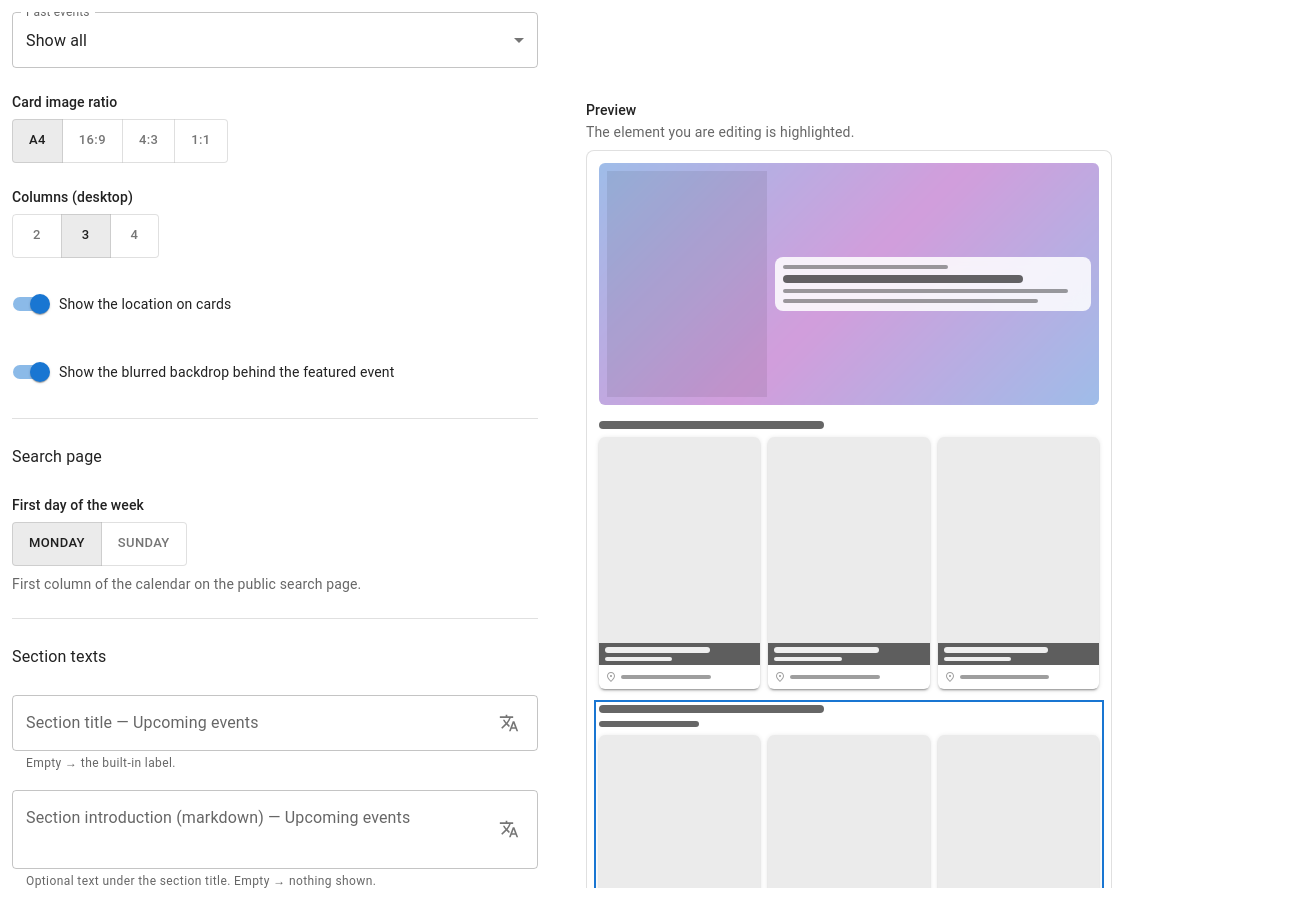
Scenario: AgendaDesignEditor (Agenda design tab) › hides the cut-off date outside the `from` mode and reveals it inside
Expected: the field labelled "show past events from" is not shown
Press the mouse on the dropdown named "past events" at (57, 40), box [26,30,87,50]
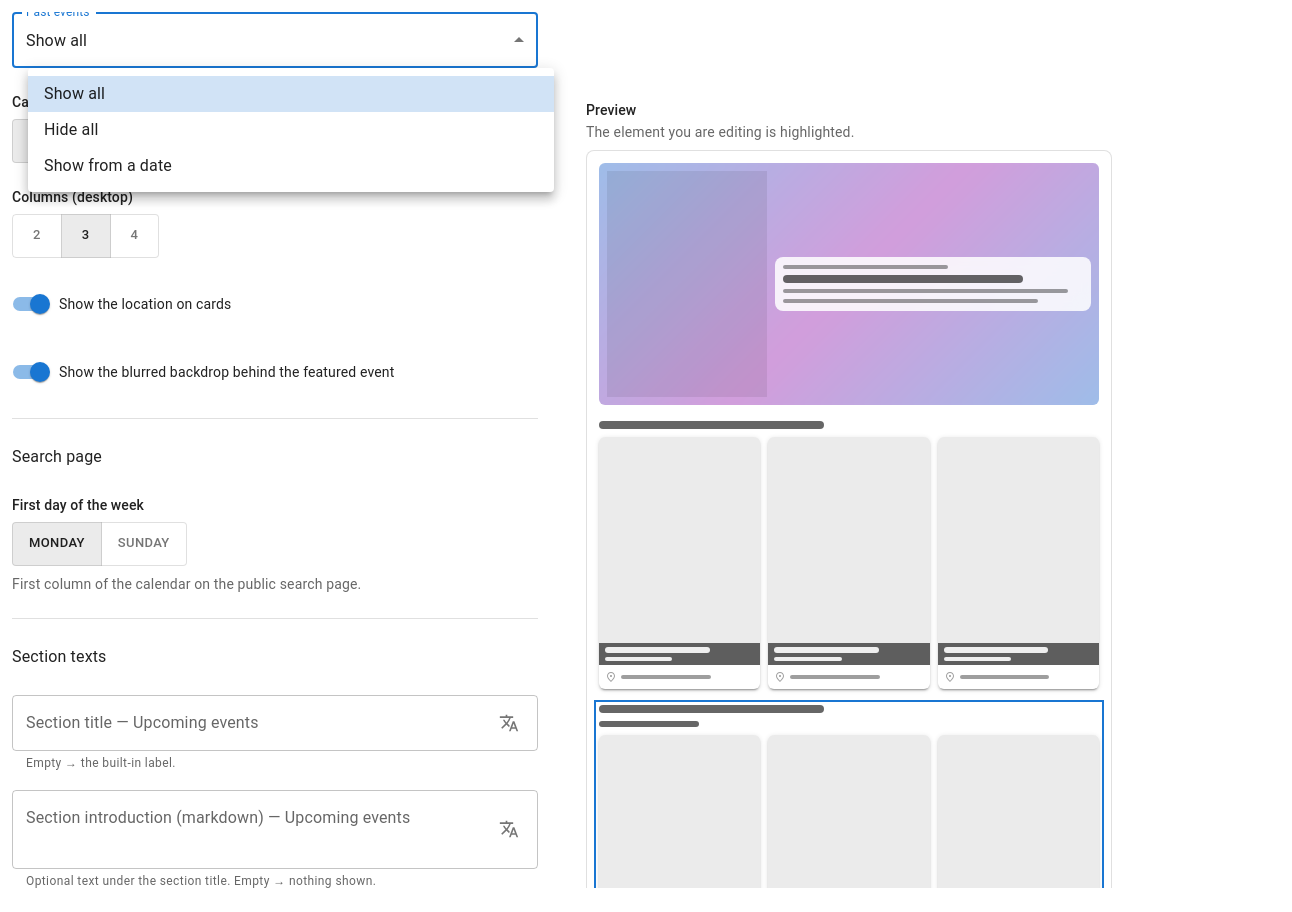
Click the option "Show from a date" at (108, 166), box [44,156,172,175]
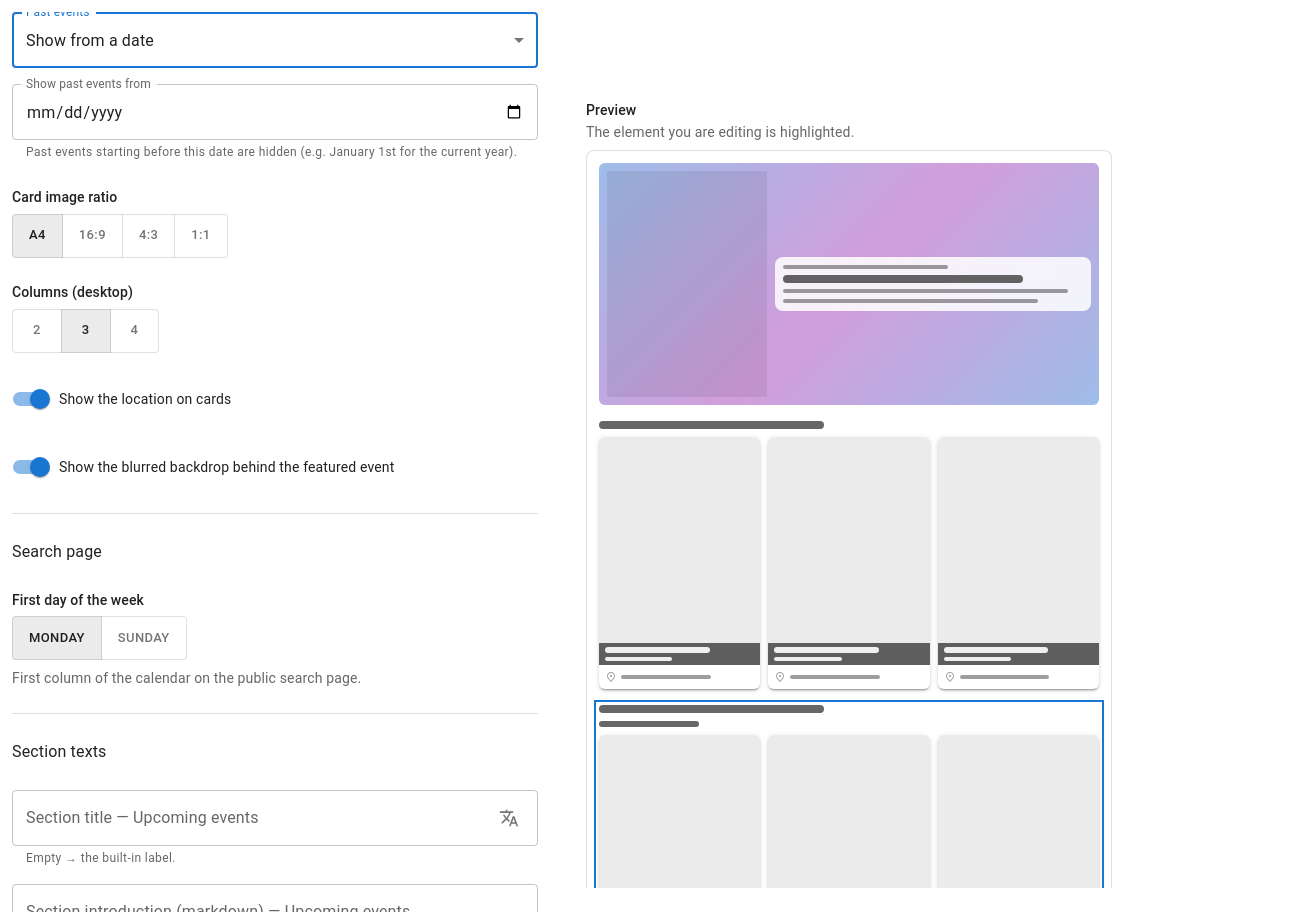
Expected: the date field labelled "Show past events from" is shown, [12,84,538,140]
